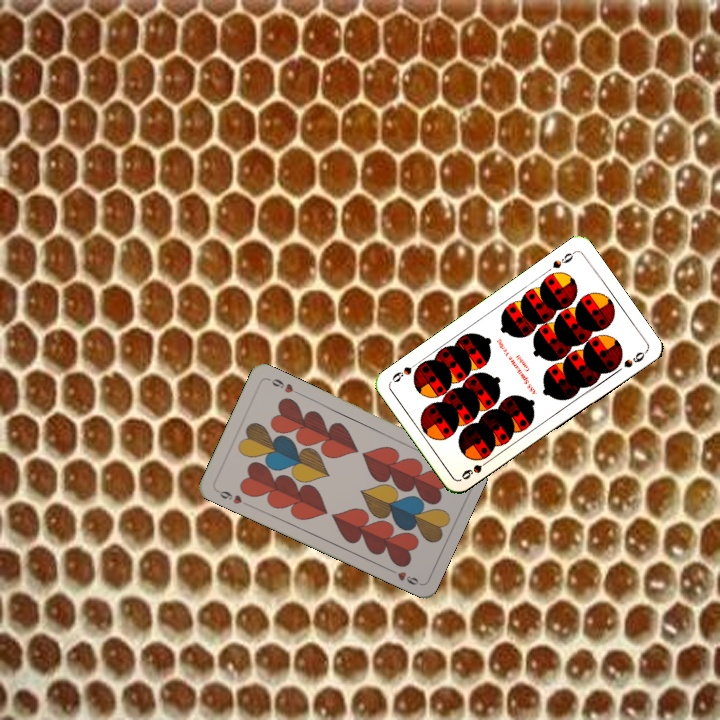H9: (212, 486, 251, 508)
S9: (457, 454, 494, 482), (548, 247, 578, 271)
